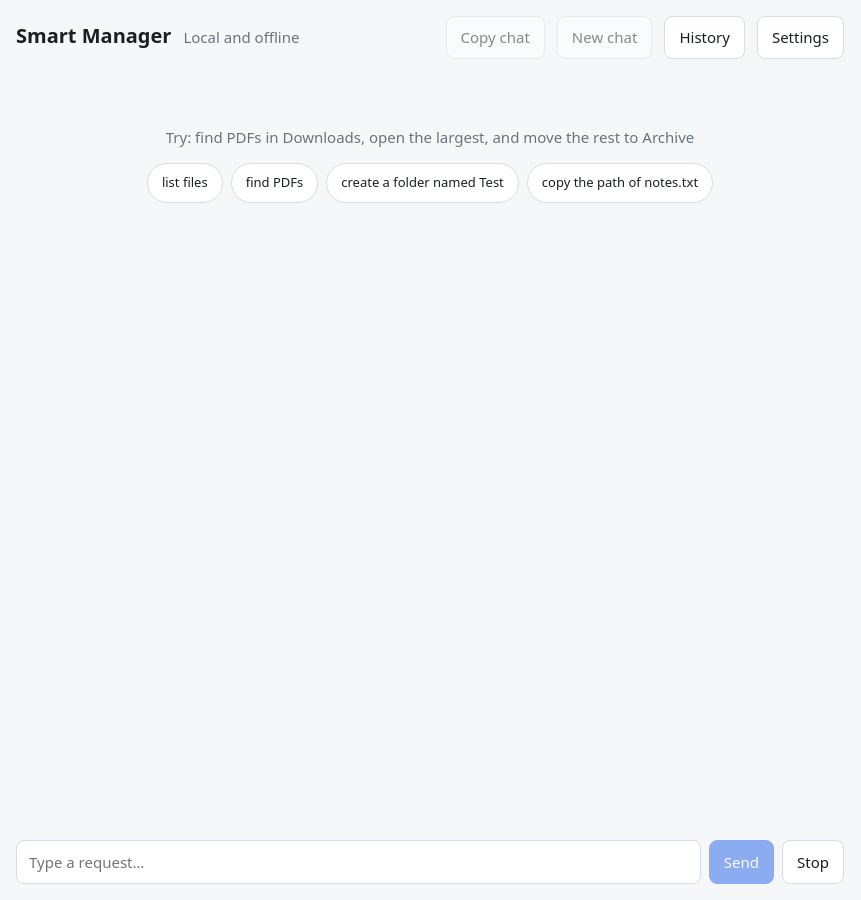
Scenario: App › shows file names as text and never as HTML
The width and height of the screenshot is (861, 900).
Type "anything" into the field with placeholder "Type a request…".
click(358, 862); type("anything")  # box [16,840,701,884]
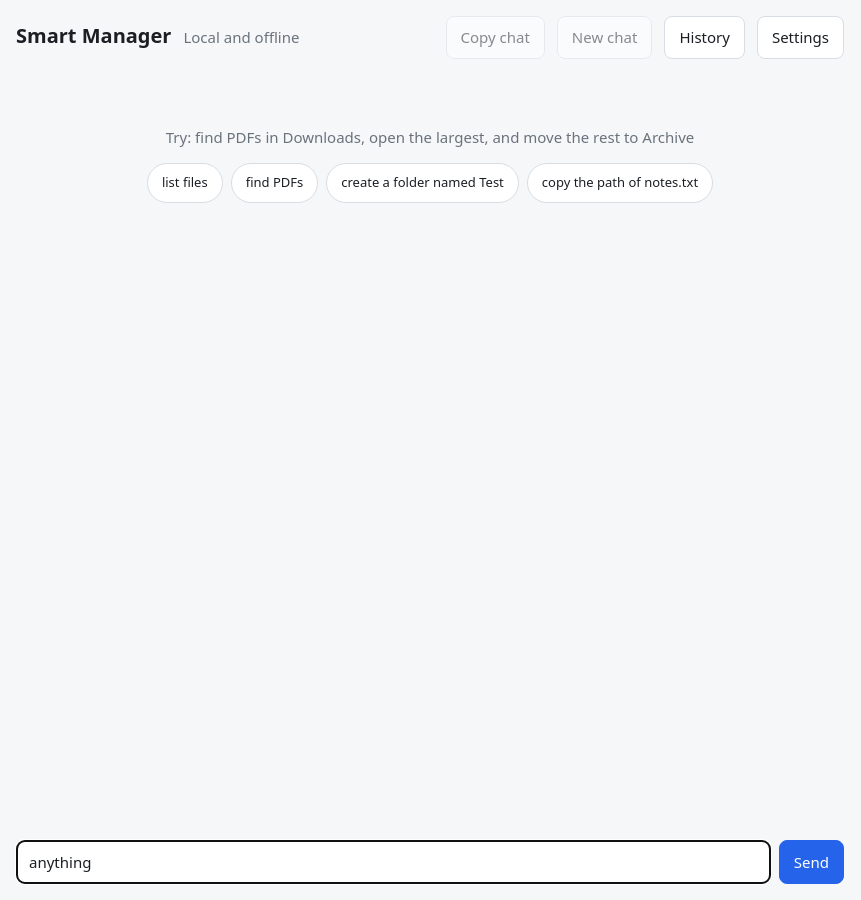
Click the button "Send".
click(811, 862)  # box [779,840,844,884]
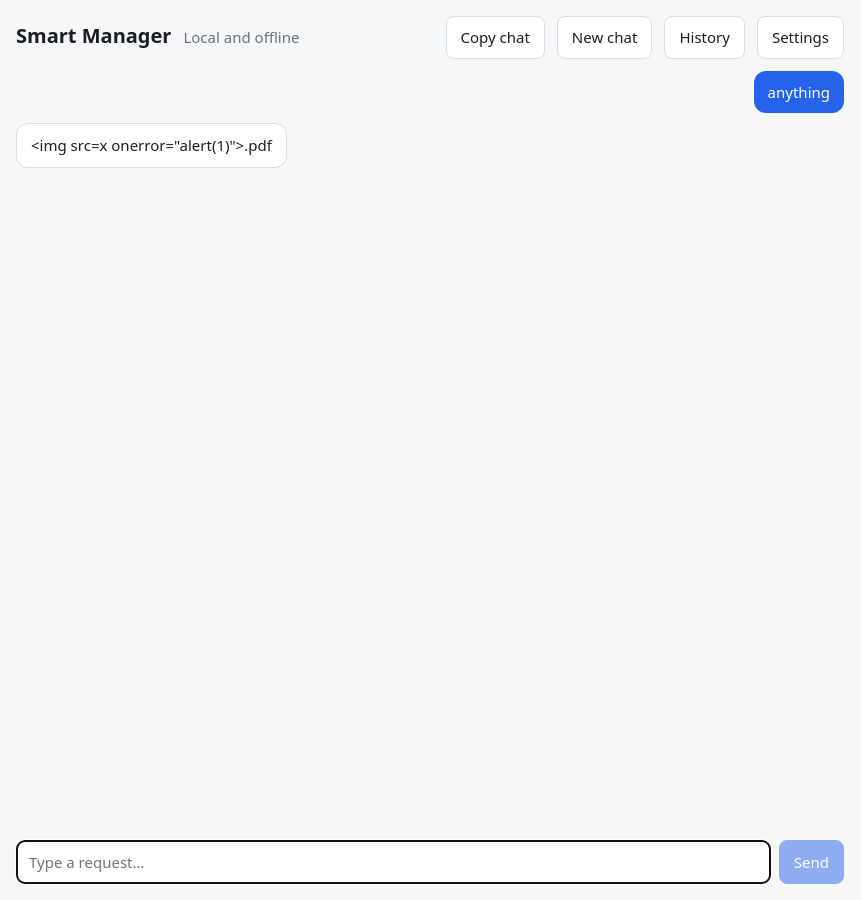
Now the text "<img src=x onerror=\"alert(1)\">.pdf" is shown, box [16,123,287,168]
